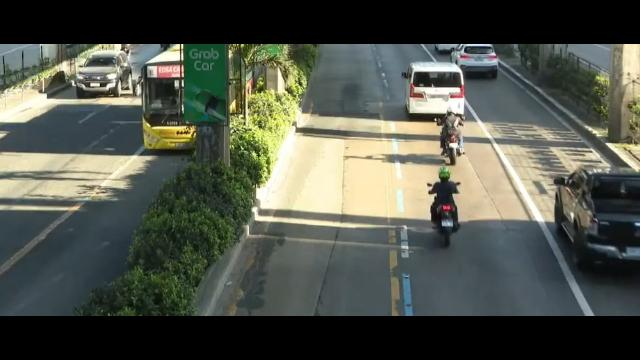bus: (138, 45, 198, 162)
car: (79, 52, 130, 99), (452, 42, 504, 74)
motorcycle: (427, 166, 460, 240), (438, 107, 468, 165)
pickup-truck: (554, 160, 640, 268)
van: (404, 62, 468, 120)
